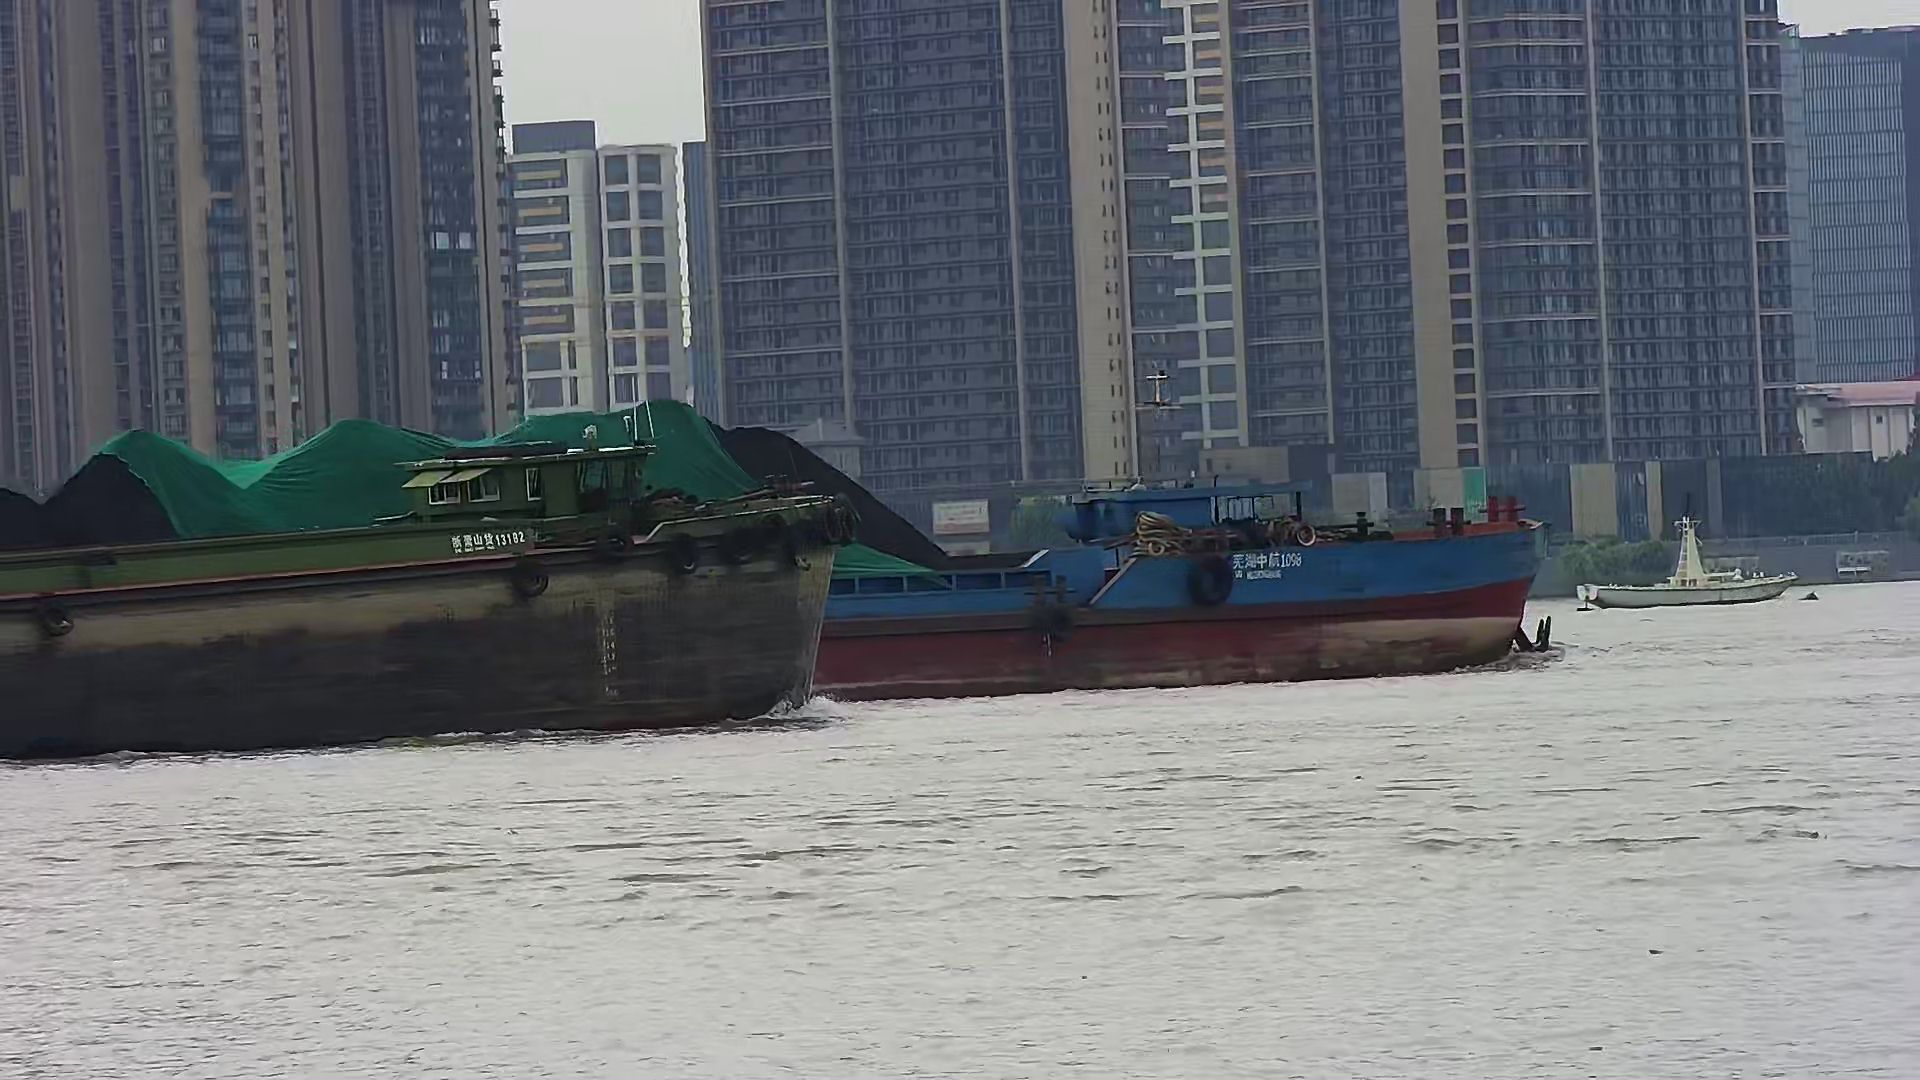boat: (1563, 480, 1817, 618)
ship: (41, 392, 1597, 705), (1, 381, 866, 798)
